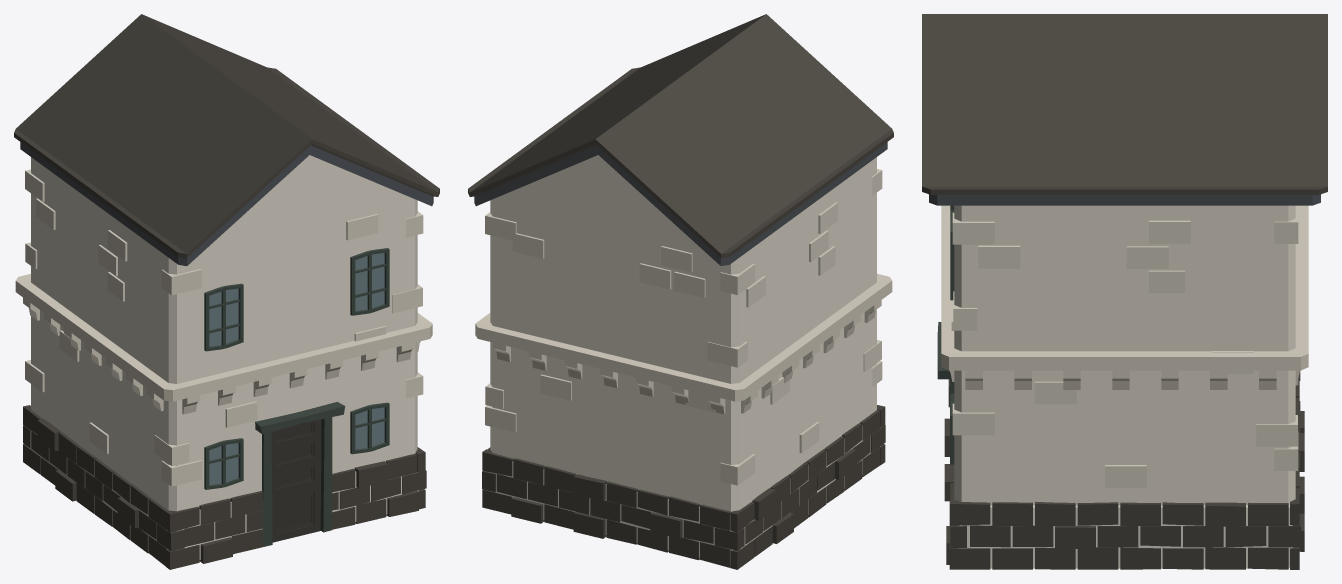
Rendered from london-stucco-a.glb.
3 views of the same model, side by side, from view 1: azimuth 30°, elevation 25°; view 2: azimuth 150°, elevation 25°; view 3: azimuth 270°, elevation 25° (orthographic). The views are drawn at different scales.
Bounding box in the file's own units: 2.16 × 3.13 × 2.38.
